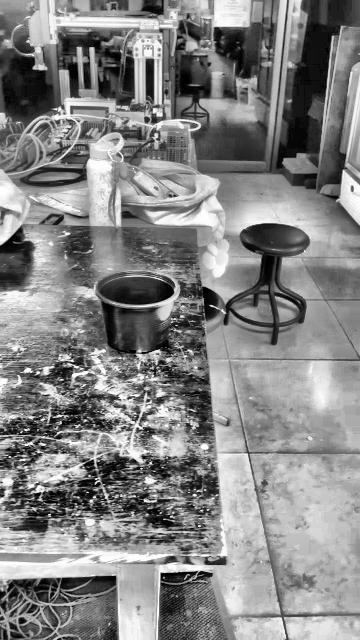pot: (94, 270, 177, 353)
